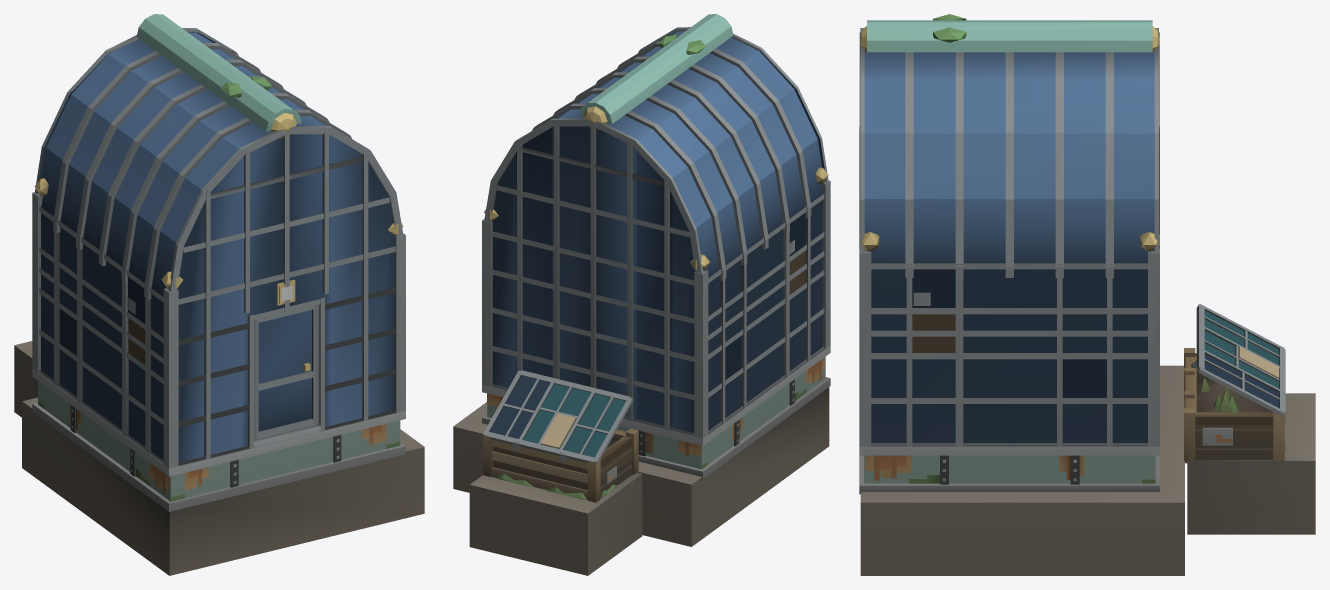
File: conserv.glb
The picture shows the model from 3 angles, left to right: view 1: azimuth 30°, elevation 25°; view 2: azimuth 150°, elevation 25°; view 3: azimuth 270°, elevation 25°; orthographic projection. The views are drawn at different scales.
Parts seen in each view (by area): view 1: conserv; view 2: conserv; view 3: conserv.
Boxes of the visible parts, box(x1,y1,x2,y2) form: conserv: box(14, 14, 424, 575); conserv: box(453, 14, 830, 575); conserv: box(859, 14, 1315, 575).
Size of the model in its own units: 4.98 by 8.1 by 6.98.
